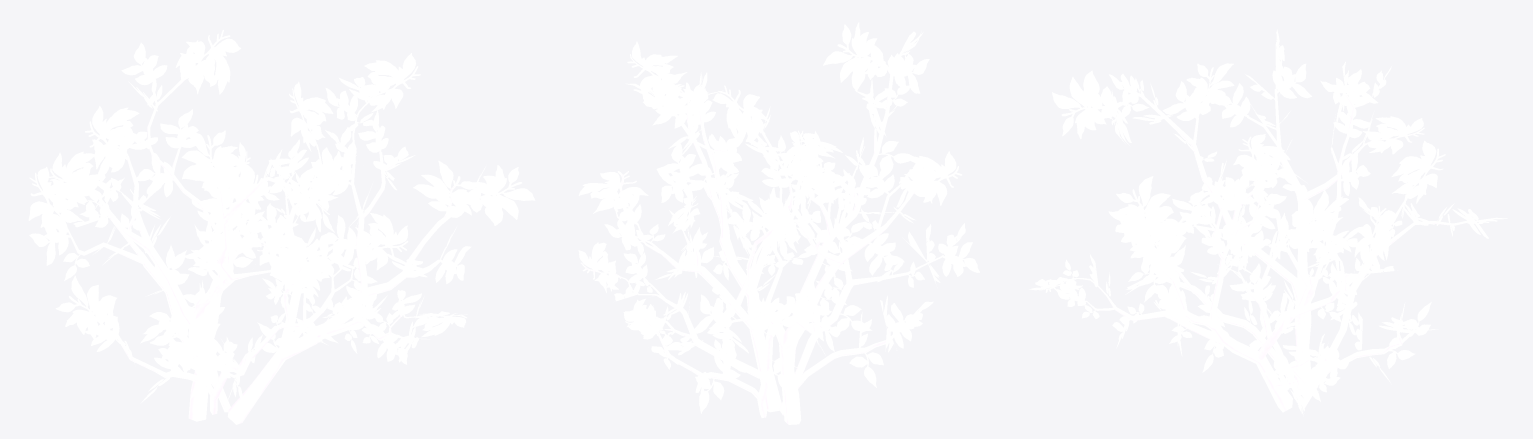
The picture shows the model from 3 angles, left to right: view 1: azimuth 30°, elevation 25°; view 2: azimuth 150°, elevation 25°; view 3: azimuth 270°, elevation 25°; orthographic projection. The views are drawn at different scales.
Parts seen in each view (by area): view 1: SM_Dwellberry_Bush_Empty_01_LOD0; view 2: SM_Dwellberry_Bush_Empty_01_LOD0; view 3: SM_Dwellberry_Bush_Empty_01_LOD0.
Part boxes in pixels (x1,y1,x2,y2): SM_Dwellberry_Bush_Empty_01_LOD0: [28, 30, 535, 424]; SM_Dwellberry_Bush_Empty_01_LOD0: [578, 22, 979, 424]; SM_Dwellberry_Bush_Empty_01_LOD0: [1029, 29, 1507, 416].
Bounding box in the file's own units: 1.57 × 1.34 × 1.69.
Materials: 1 (1 with a texture image).
